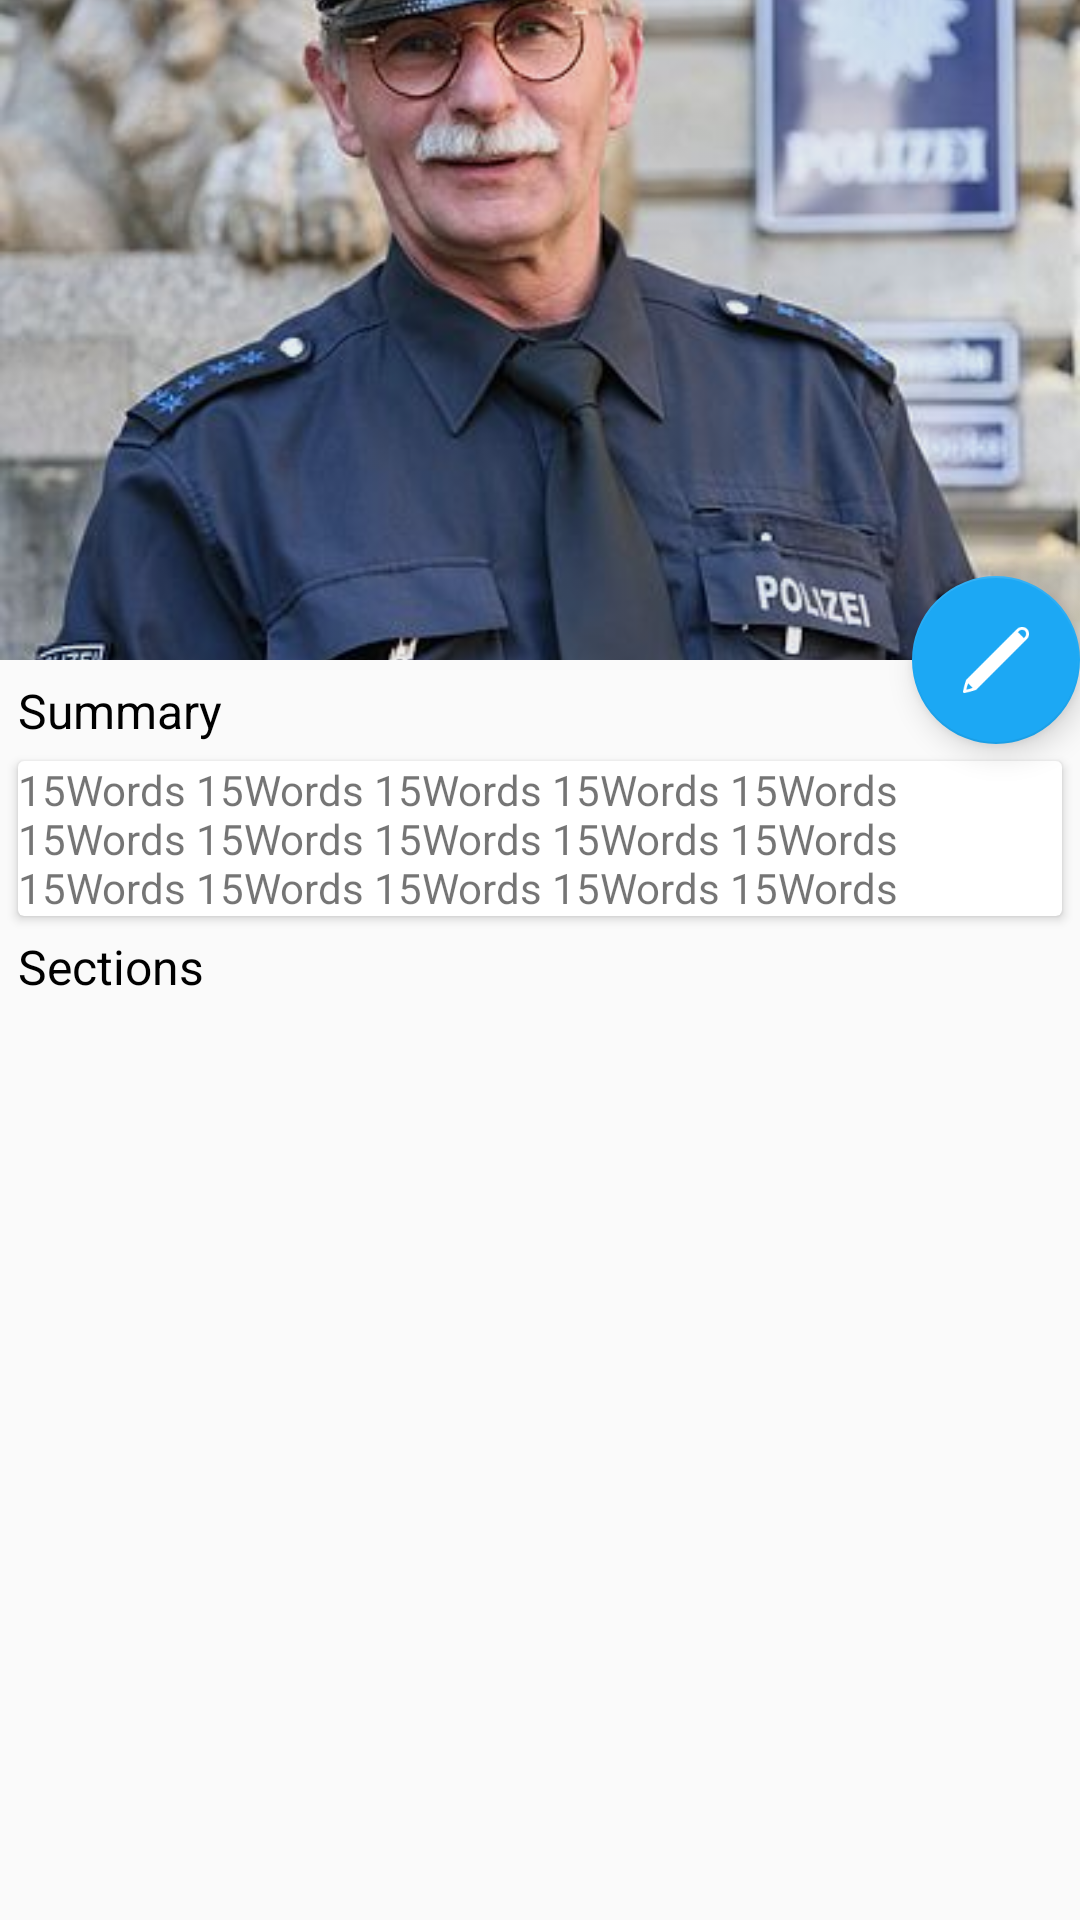

Point at icon controls on the screen. Image size 1080px x 1920px, points as [x,y].
edit: [996,660]
